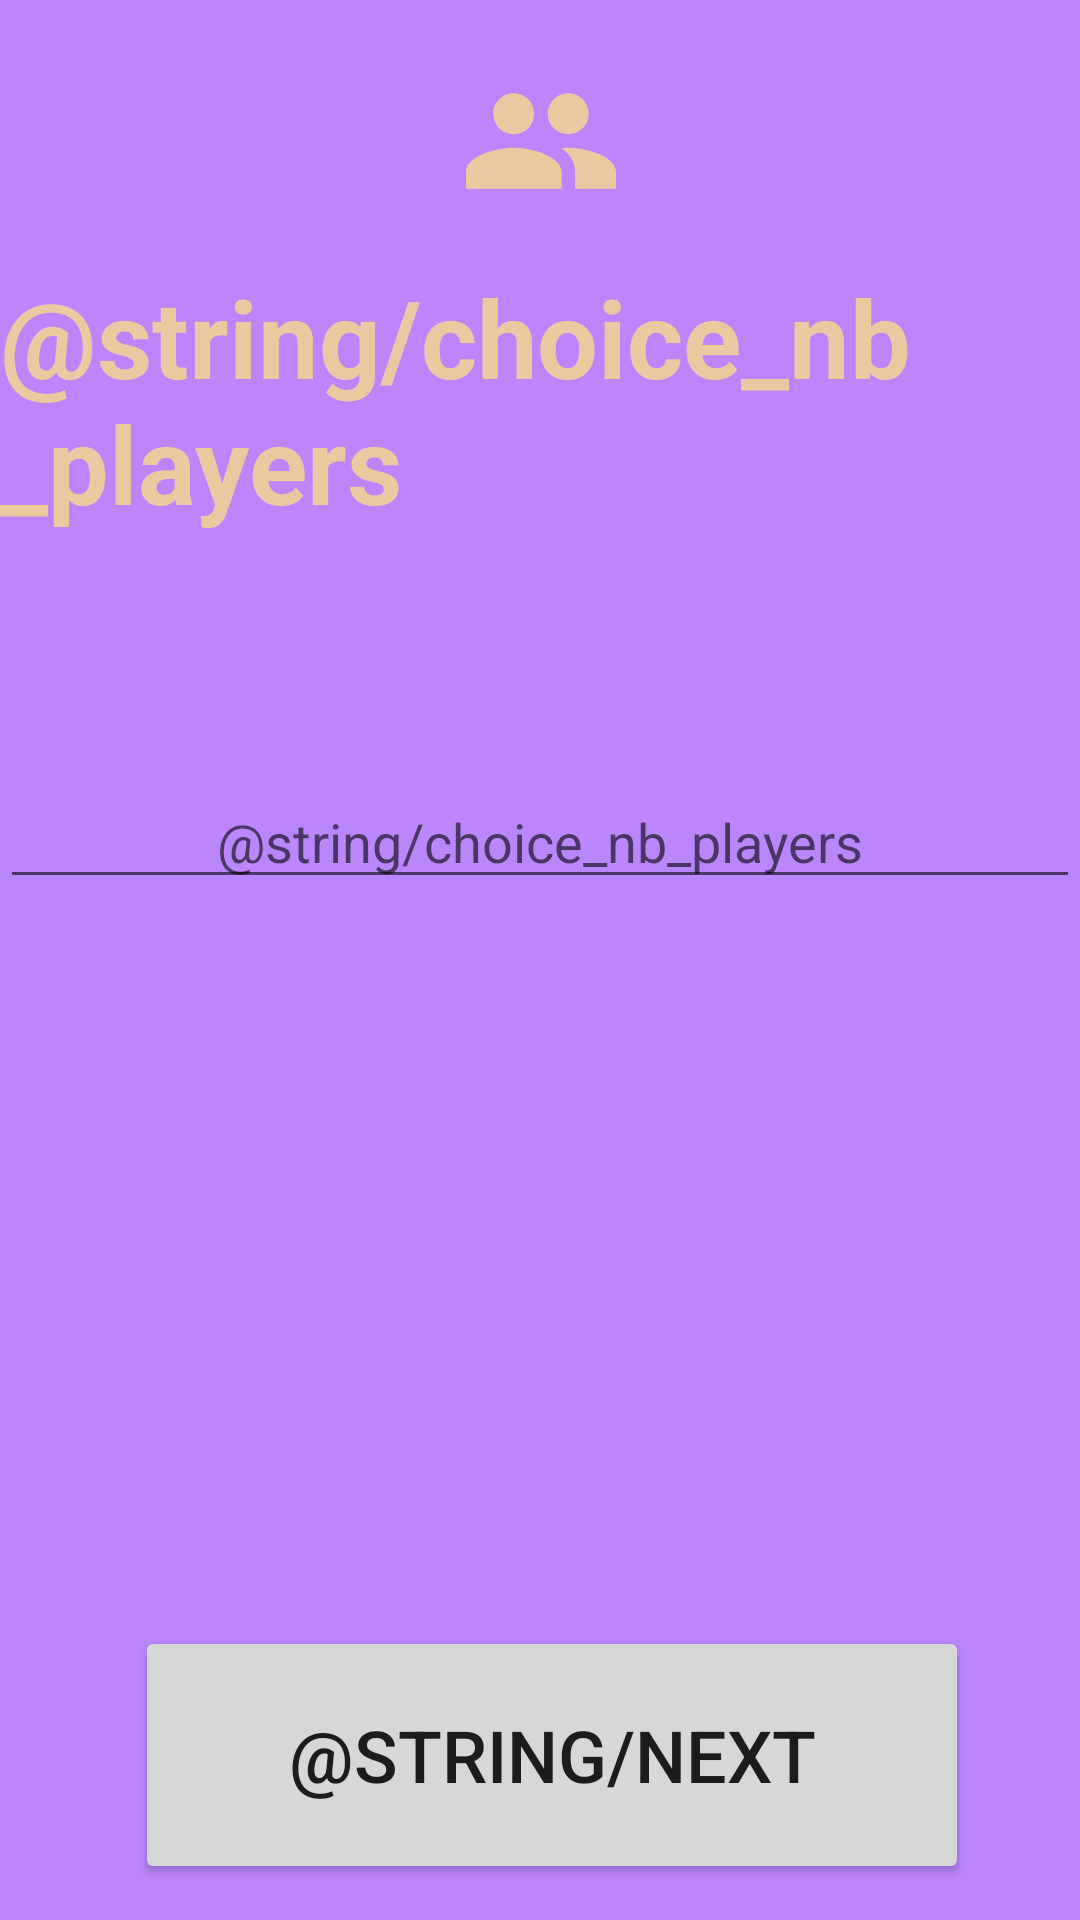

Screen size 1080x1920. Icon name, then its center in pixels as point (x, y):
users: point (541, 141)
